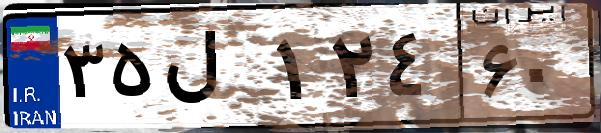0: (525, 38, 570, 115)
1: (270, 28, 330, 110)
2: (330, 28, 385, 110)
3: (57, 26, 110, 100)
4: (385, 28, 445, 110)
5: (110, 28, 158, 98)
6: (475, 38, 525, 113)
ل: (158, 20, 270, 120)
